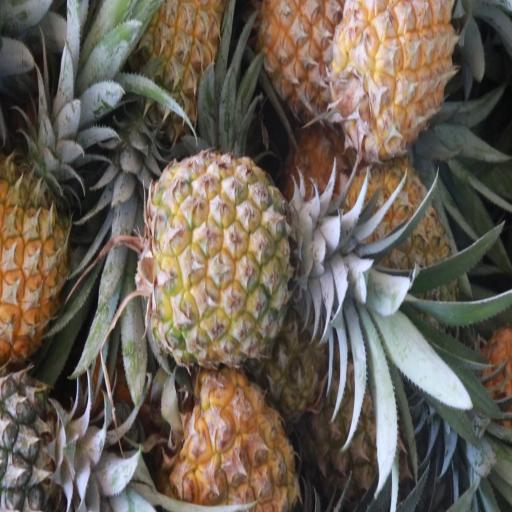------------------------------: (144, 154, 295, 362), (340, 167, 454, 337), (258, 0, 346, 125)
Pineapple - v8 v1: (336, 0, 455, 156), (170, 387, 296, 512), (0, 174, 73, 368), (141, 0, 222, 141)
